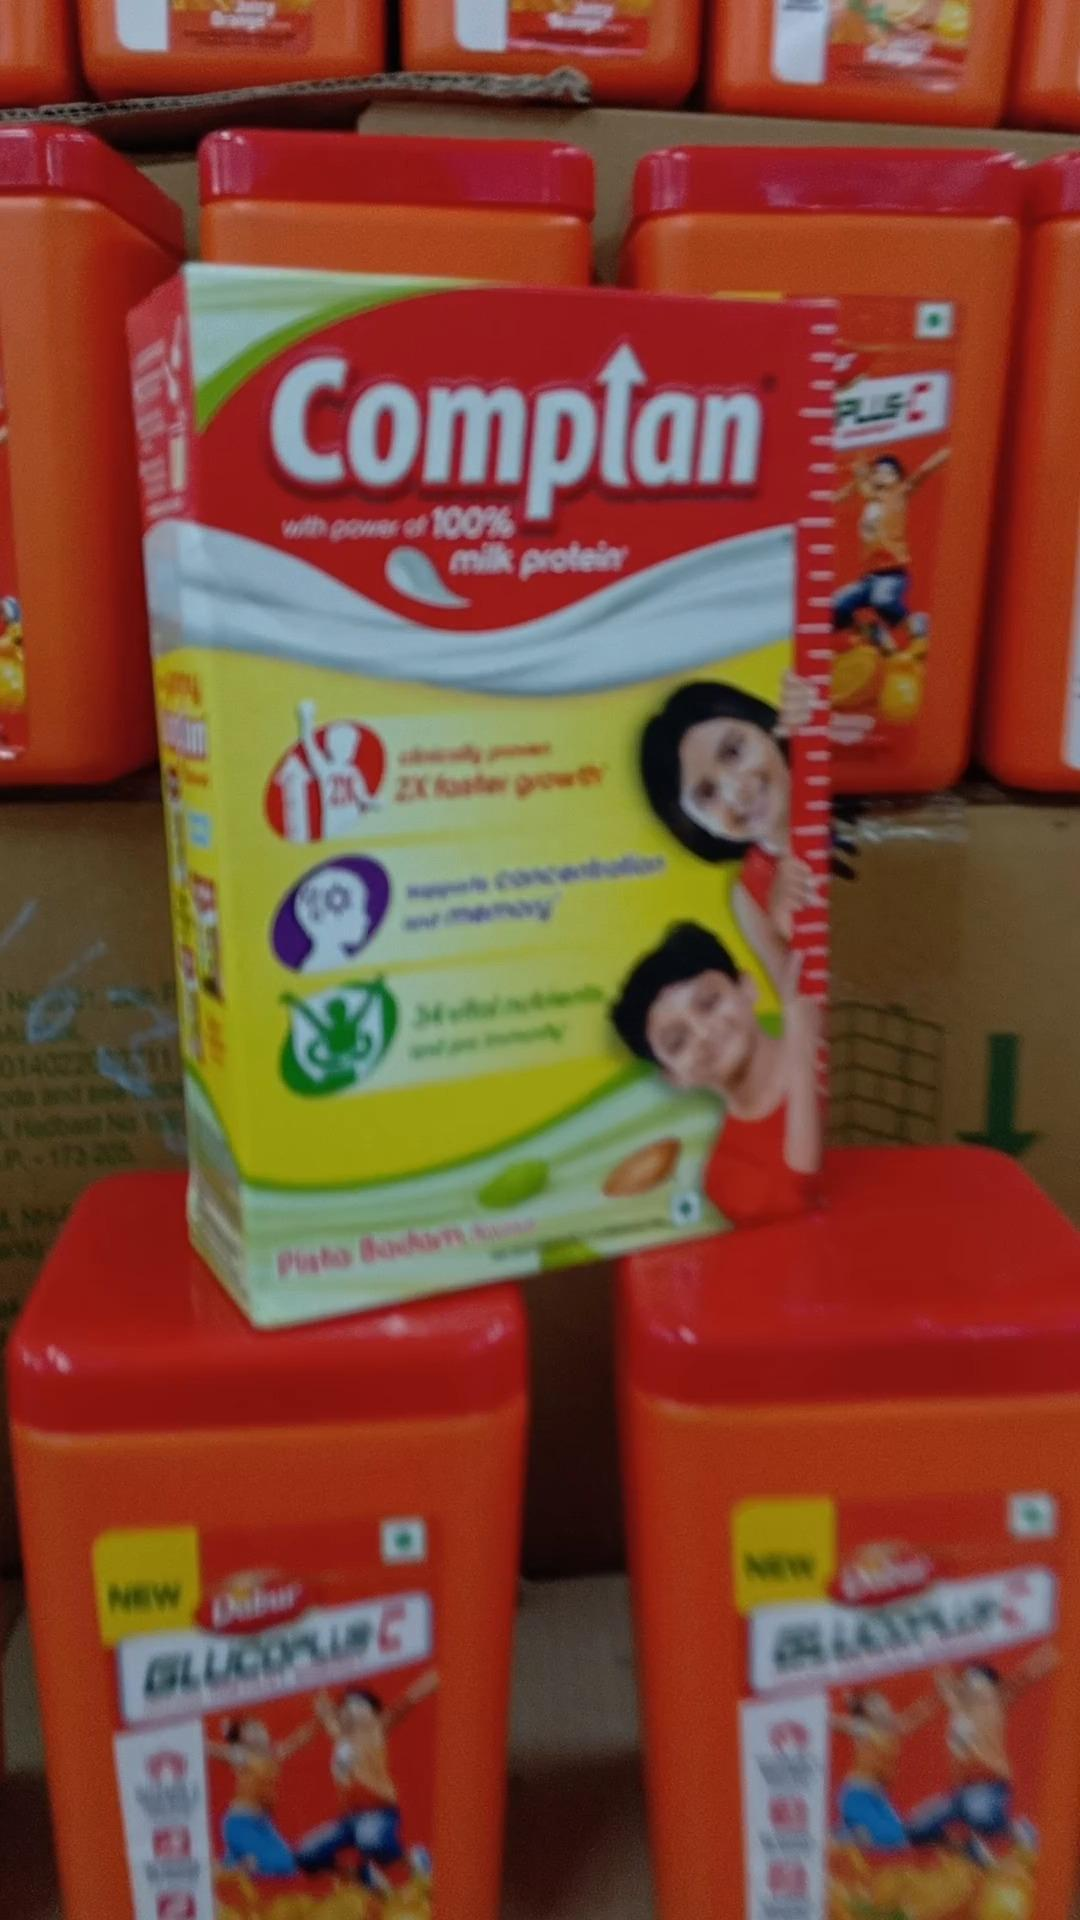COMPLAN_PISTA_BADAM_500_GMS_PACK: (194, 262, 822, 1220)
